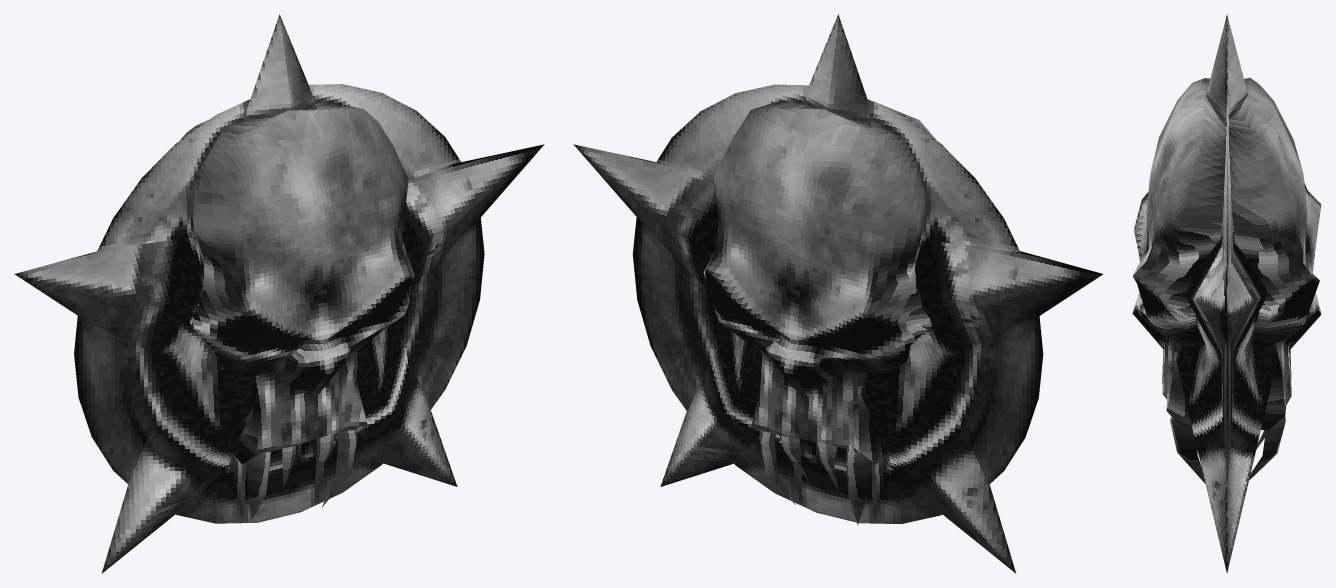
The model's file is ps2_save-icons_darkwatch.glb.
3 renders of one model, left to right at view 1: azimuth 30°, elevation 25°; view 2: azimuth 150°, elevation 25°; view 3: azimuth 270°, elevation 25°, orthographic. The views are drawn at different scales.
Visible parts, largest first — view 1: badge.ico; view 2: badge.ico; view 3: badge.ico.
Part boxes in pixels (<box>): badge.ico: <box>14,14,544,573</box>; badge.ico: <box>573,14,1103,573</box>; badge.ico: <box>1132,14,1321,573</box>.
Size of the model in its own units: 4.82 by 4.48 by 1.6.
Materials: 1 (1 with a texture image).
